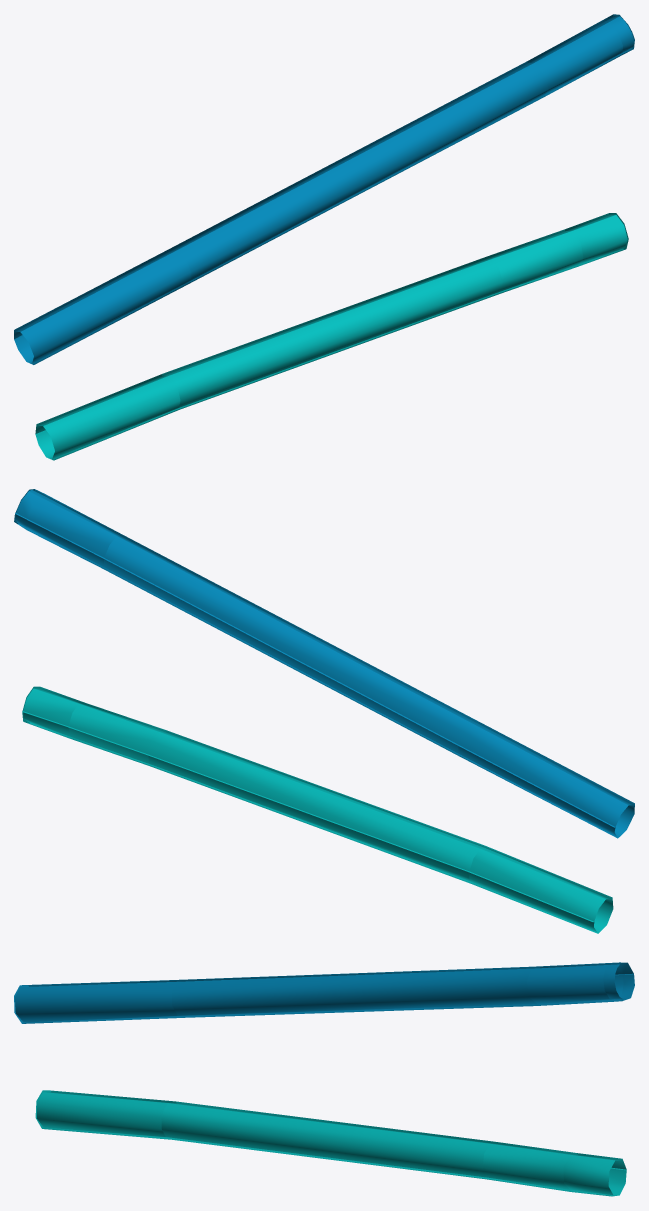
3 renders of one model, top to bottom at view 1: azimuth 30°, elevation 25°; view 2: azimuth 150°, elevation 25°; view 3: azimuth 330°, elevation 25°, orthographic.
Visible parts, largest first — view 1: 0_2_2_0; view 2: 0_2_2_0; view 3: 0_2_2_0.
Boxes of the visible parts, left/top/right/bottom form: 0_2_2_0: left=14, top=14, right=634, bottom=460; 0_2_2_0: left=14, top=489, right=634, bottom=933; 0_2_2_0: left=14, top=962, right=634, bottom=1196.
Bounding box in the file's own units: 103 × 49.34 × 6.35.
